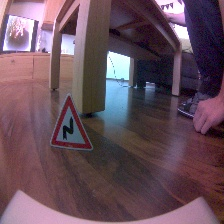vorsicht: (46, 91, 94, 153)
